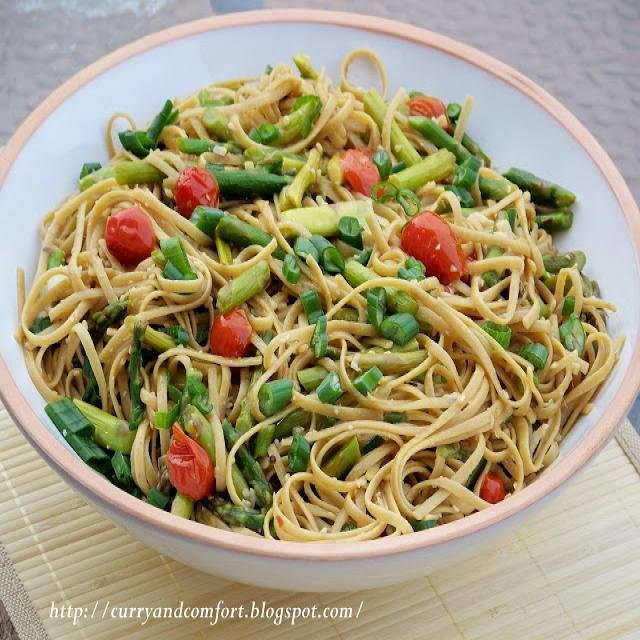Oil pasta: (35, 40, 621, 566)
